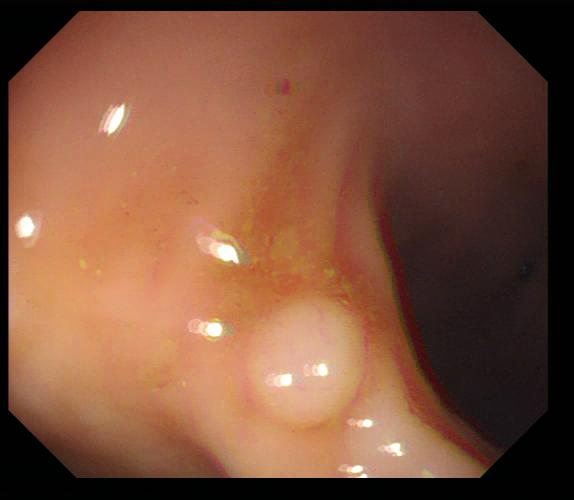polyp: (243, 293, 367, 431)
